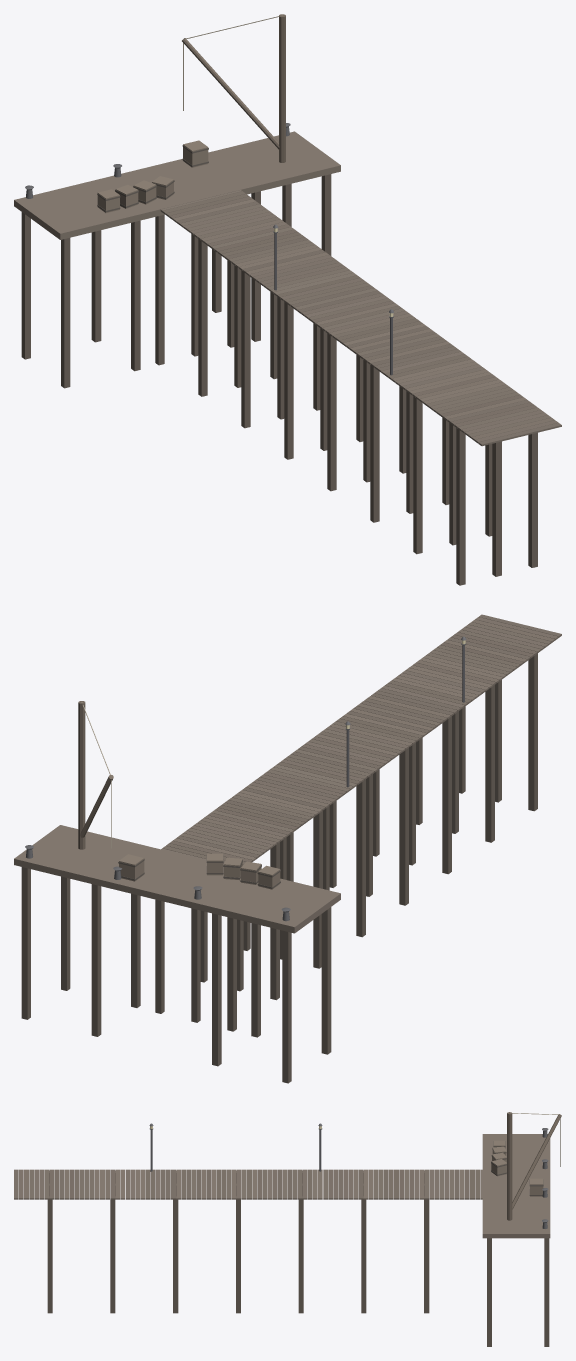
File: dock_3.gltf
The picture shows the model from 3 angles, top to bottom: view 1: azimuth 30°, elevation 25°; view 2: azimuth 150°, elevation 25°; view 3: azimuth 270°, elevation 25°; orthographic projection. The views are drawn at different scales.
Parts seen in each view (by area): view 1: Body; view 2: Body; view 3: Body.
Boxes of the visible parts, <box> form: Body: <box>14,14,561,585</box>; Body: <box>14,614,561,1083</box>; Body: <box>14,1112,561,1346</box>.
Bounding box in the file's own units: 14 × 14.51 × 32.44.
